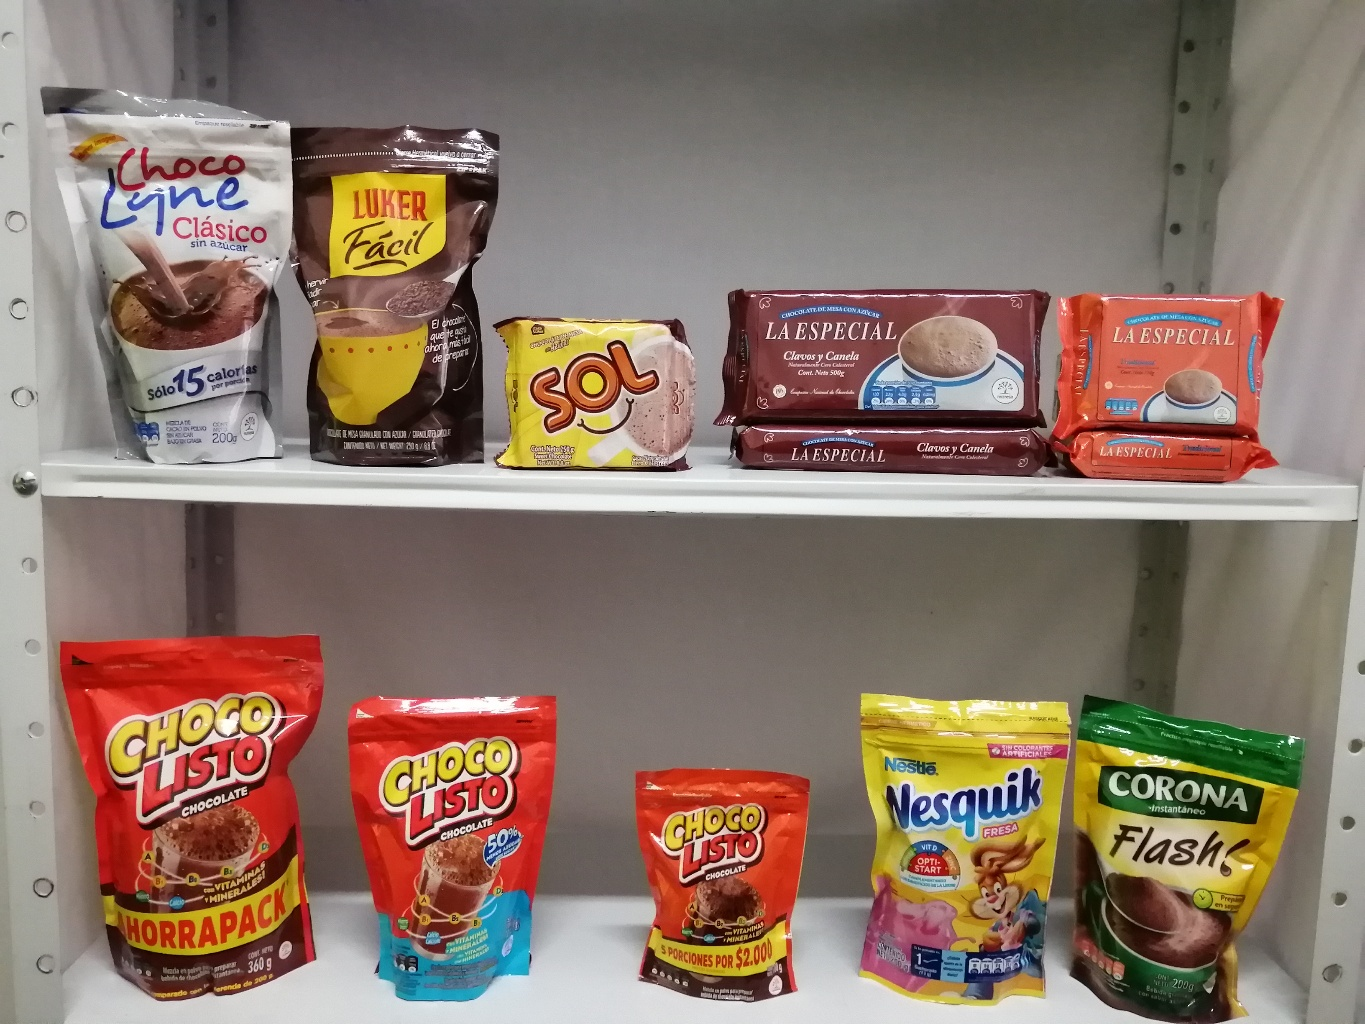COL0170103DYP36000: (39, 616, 341, 1014)
COL0170104DYP20000: (343, 680, 564, 1014)
COL0170305DYP20000: (830, 664, 1078, 1014)
